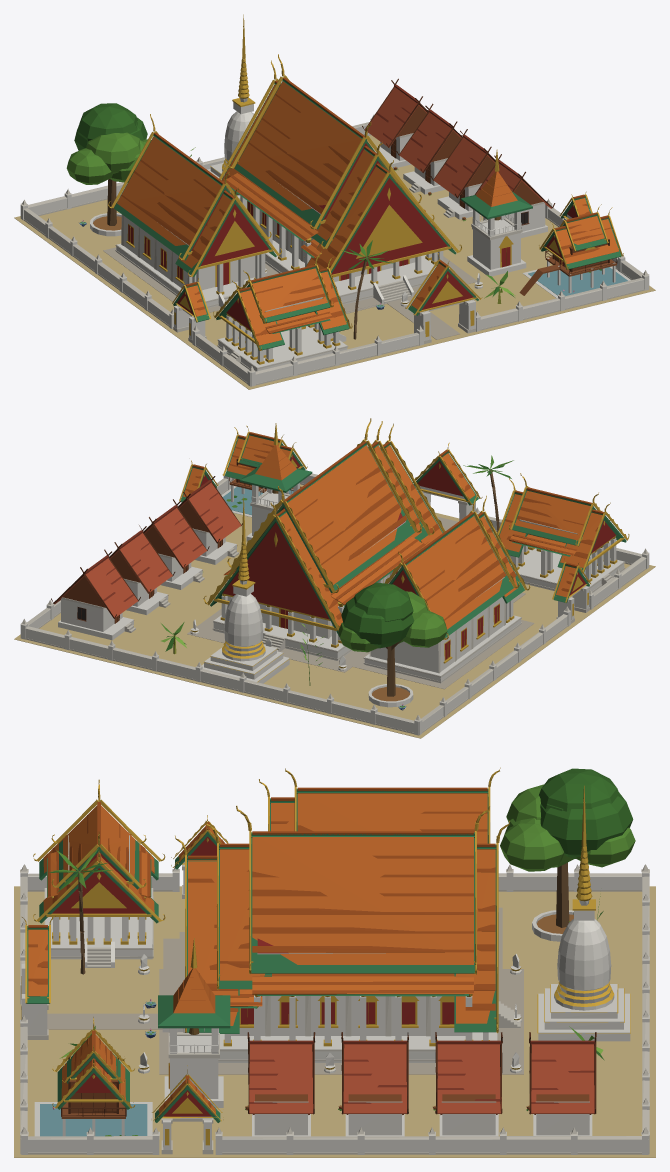
The model's file is temple_3.glb.
The picture shows the model from 3 angles, top to bottom: view 1: azimuth 30°, elevation 25°; view 2: azimuth 150°, elevation 25°; view 3: azimuth 270°, elevation 25°; orthographic projection. The views are drawn at different scales.
Parts seen in each view (by area): view 1: body; view 2: body; view 3: body.
Part boxes in pixels (<box>): body: <box>14,14,655,389</box>; body: <box>14,418,655,738</box>; body: <box>14,767,655,1157</box>.
Bounding box in the file's own units: 47.9 × 19.8 × 47.9.
